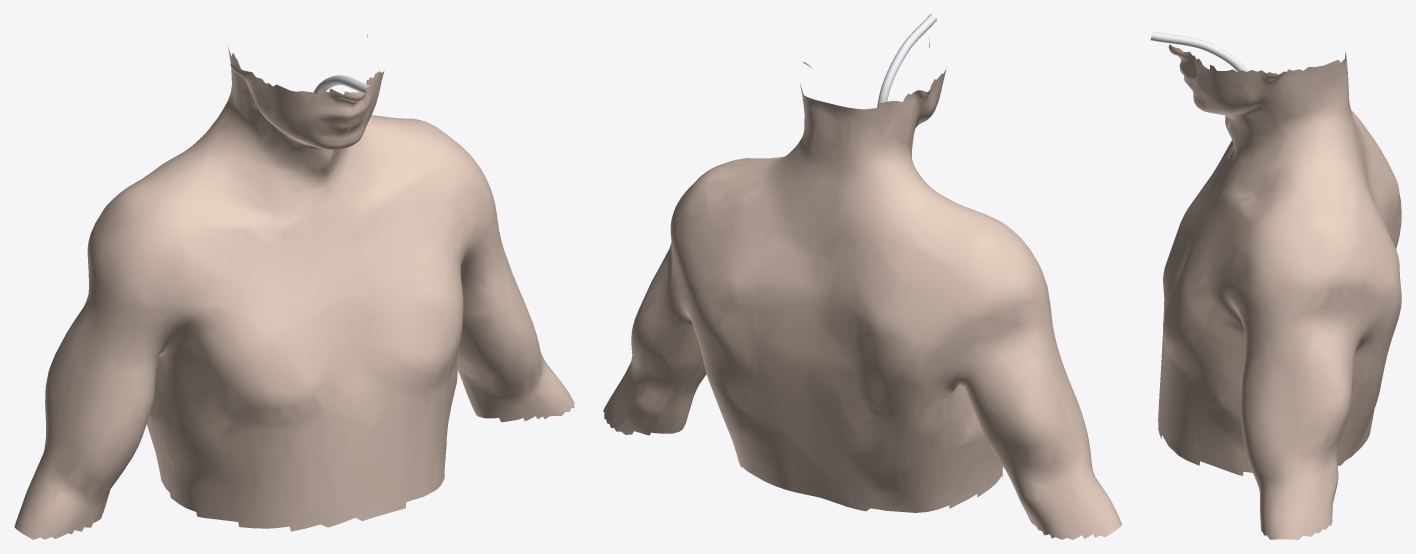
The model's file is resp.glb.
The picture shows the model from 3 angles, left to right: view 1: azimuth 30°, elevation 25°; view 2: azimuth 150°, elevation 25°; view 3: azimuth 270°, elevation 25°; orthographic projection. The views are drawn at different scales.
Parts seen in each view (by area): view 1: chest_wall; view 2: chest_wall, ett; view 3: chest_wall, ett.
Boxes of the visible parts, left/top/right/bottom form: chest_wall: left=14, top=35, right=574, bottom=539; chest_wall: left=603, top=37, right=1121, bottom=539; ett: left=877, top=14, right=936, bottom=107; chest_wall: left=1158, top=44, right=1401, bottom=539; ett: left=1150, top=31, right=1247, bottom=71.
Size of the model in its own units: 7.06 by 5.61 by 3.13.
